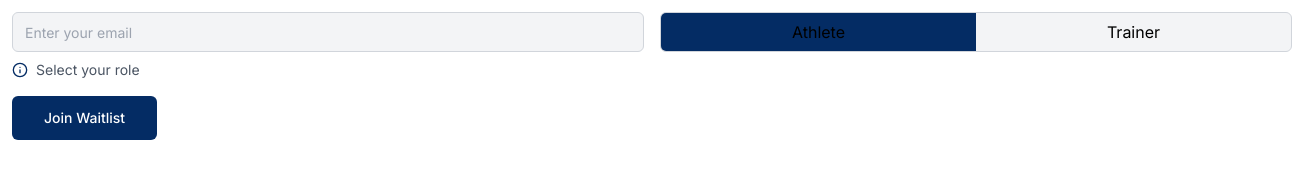
it: WaitlistForm › shows error when submitting without email
The image size is (1304, 191).
Click the button "Join Waitlist". click: (85, 118)
box: [12,96,157,140]
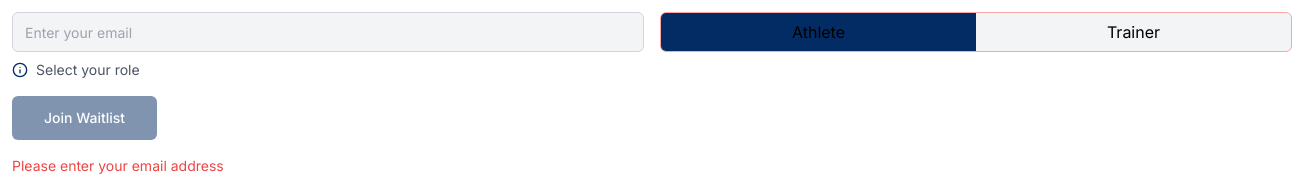
Now the text "Please enter your email address" is shown, box [12,157,224,174]
